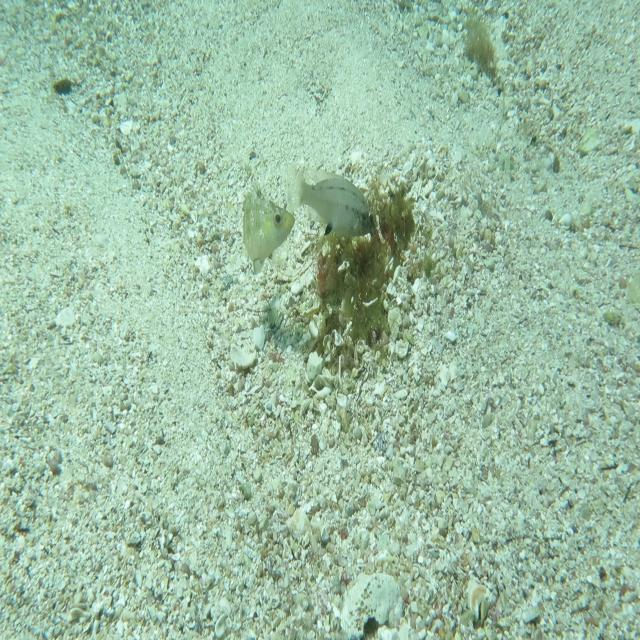GB: (240, 176, 297, 279)
female: (284, 164, 378, 240)
nest: (306, 162, 431, 368)
